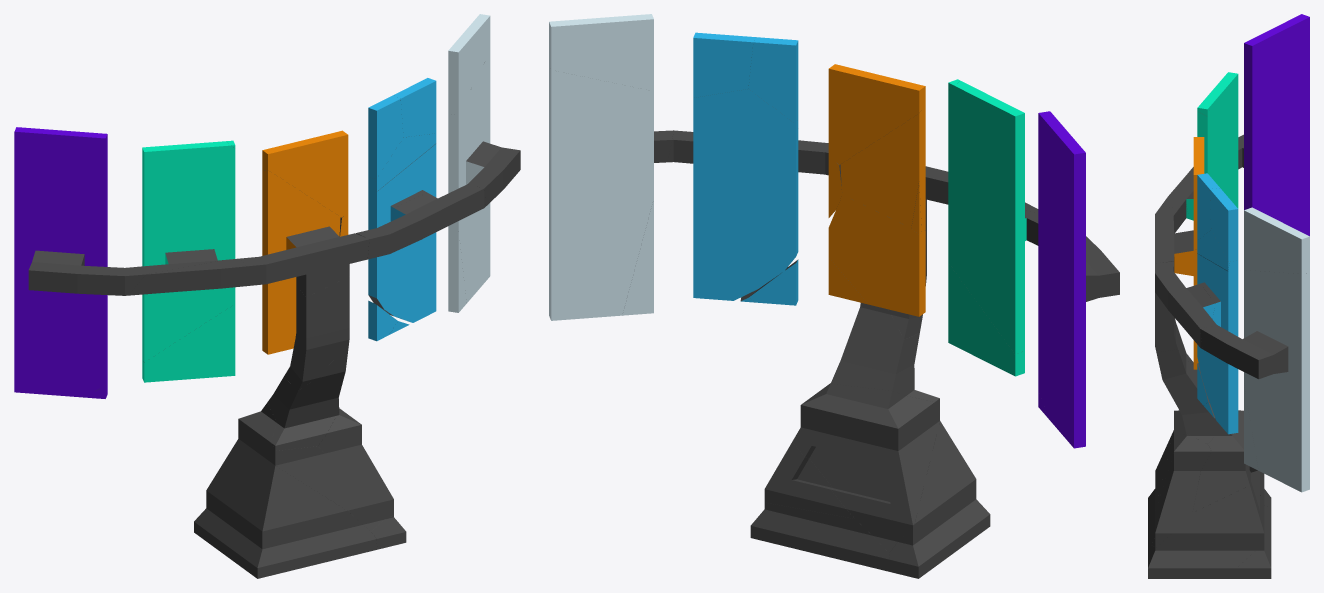
File: FracturedLiminalStatue.fbx
The picture shows the model from 3 angles, left to right: view 1: azimuth 30°, elevation 25°; view 2: azimuth 150°, elevation 25°; view 3: azimuth 270°, elevation 25°; orthographic projection. The views are drawn at different scales.
Visible parts, largest first — view 1: Statue_cell.009, Statue_cell.002, Statue_cell.012, Statue_cell.013, Statue_cell.018, Statue_cell.004, Statue_cell.026, Statue_cell, Statue_cell.022, Statue_cell.001, Statue_cell.024, Statue_cell.011 (+9 smaller); view 2: Statue_cell.009, Statue_cell.013, Statue_cell.018, Statue_cell.004, Statue_cell.010, Statue_cell.002, Statue_cell.012, Statue_cell.006, Statue_cell, Statue_cell.022, Statue_cell.008, Statue_cell.024 (+8 smaller); view 3: Statue_cell.009, Statue_cell.013, Statue_cell.003, Statue_cell.018, Statue_cell.004, Statue_cell.006, Statue_cell.001, Statue_cell.022, Statue_cell.011, Statue_cell.012, Statue_cell.020, Statue_cell.008 (+8 smaller).
Boxes of the visible parts, x1,y1,x2,y2 form: Statue_cell.009: (14, 127, 235, 397); Statue_cell.002: (194, 465, 377, 578); Statue_cell.012: (241, 170, 369, 296); Statue_cell.013: (448, 52, 520, 303); Statue_cell.018: (368, 143, 436, 322); Statue_cell.004: (206, 402, 352, 515); Statue_cell.026: (284, 276, 349, 390); Statue_cell: (262, 130, 348, 217); Statue_cell.022: (267, 345, 348, 450); Statue_cell.001: (318, 410, 393, 531); Statue_cell.024: (142, 304, 235, 382); Statue_cell.011: (356, 184, 485, 259); Statue_cell.009: (948, 81, 1119, 448); Statue_cell.013: (549, 62, 673, 320); Statue_cell.018: (693, 89, 798, 300); Statue_cell.004: (792, 383, 939, 553); Statue_cell.010: (828, 195, 925, 316); Statue_cell.002: (889, 421, 990, 578); Statue_cell.012: (840, 104, 948, 231); Statue_cell.006: (549, 14, 653, 91); Statue_cell: (828, 64, 925, 164); Statue_cell.022: (831, 303, 939, 403); Statue_cell.008: (750, 502, 889, 571); Statue_cell.024: (948, 263, 1024, 376); Statue_cell.009: (1185, 14, 1309, 236); Statue_cell.013: (1200, 270, 1309, 492); Statue_cell.003: (1148, 485, 1264, 578); Statue_cell.018: (1197, 253, 1238, 434); Statue_cell.004: (1155, 410, 1268, 512); Statue_cell.006: (1244, 207, 1309, 273); Statue_cell.001: (1152, 433, 1211, 547); Statue_cell.022: (1156, 349, 1223, 444); Statue_cell.011: (1155, 261, 1217, 348); Statue_cell.012: (1155, 206, 1193, 275); Statue_cell.020: (1209, 188, 1238, 261); Statue_cell.008: (1221, 505, 1271, 578).
Size of the model in its own units: 23.26 by 19.39 by 6.83.
